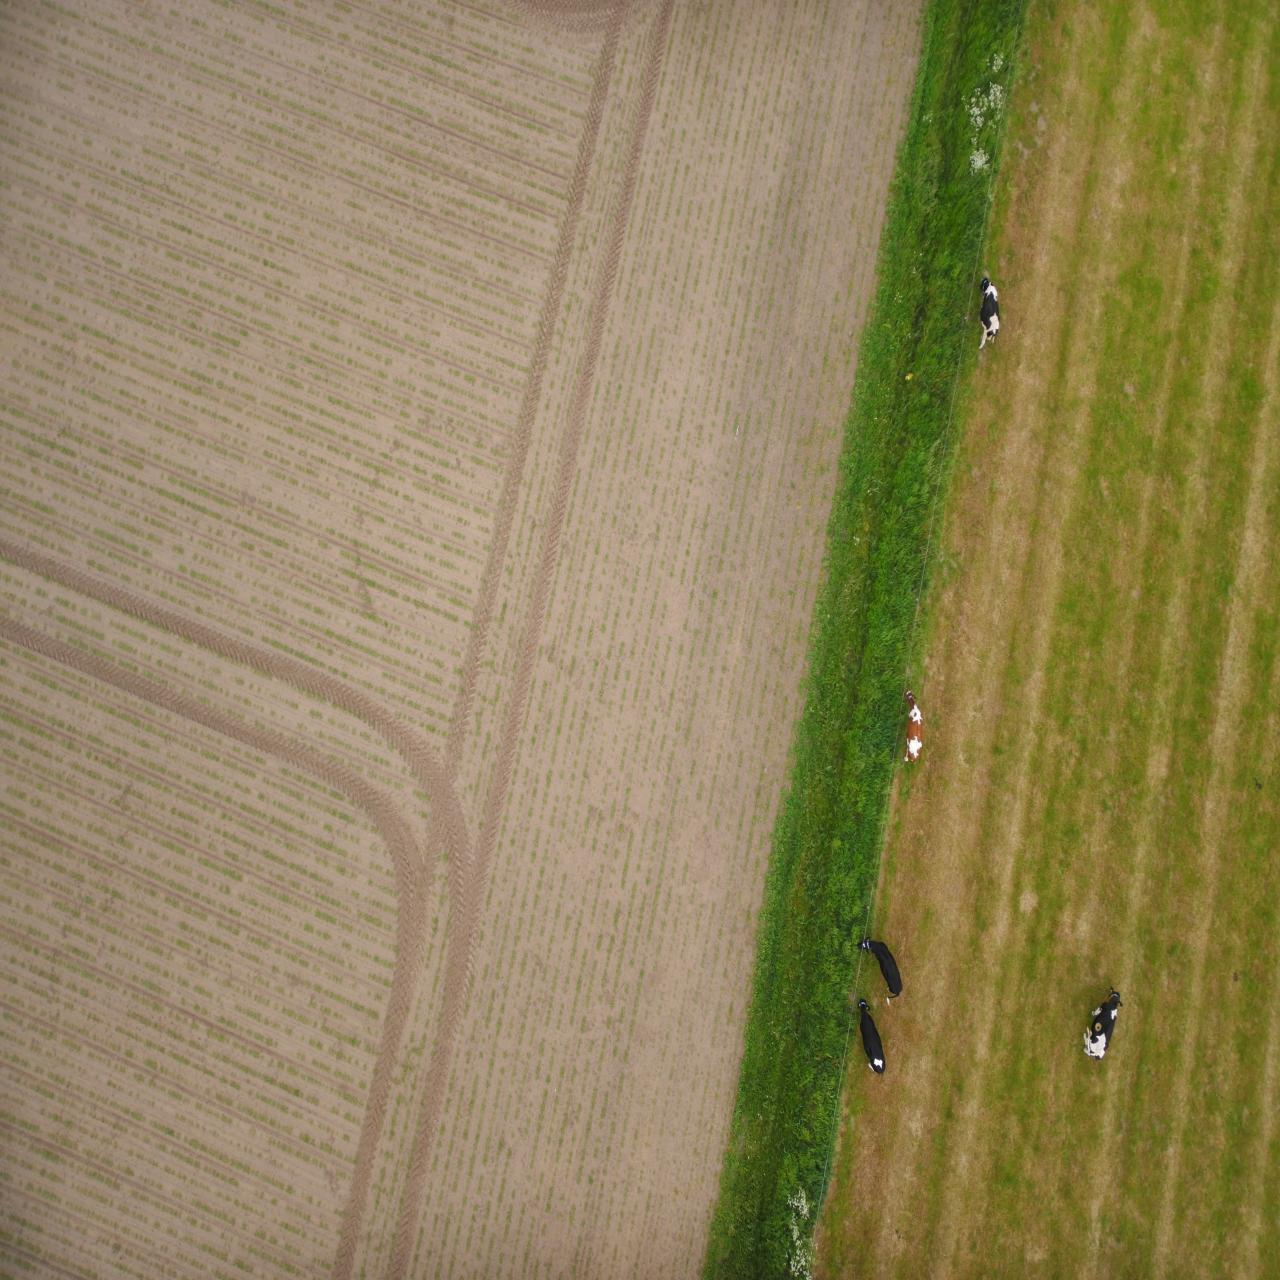cow: (157, 218, 197, 293), (379, 274, 423, 341), (394, 205, 423, 282), (280, 932, 300, 1002), (358, 518, 376, 591)
